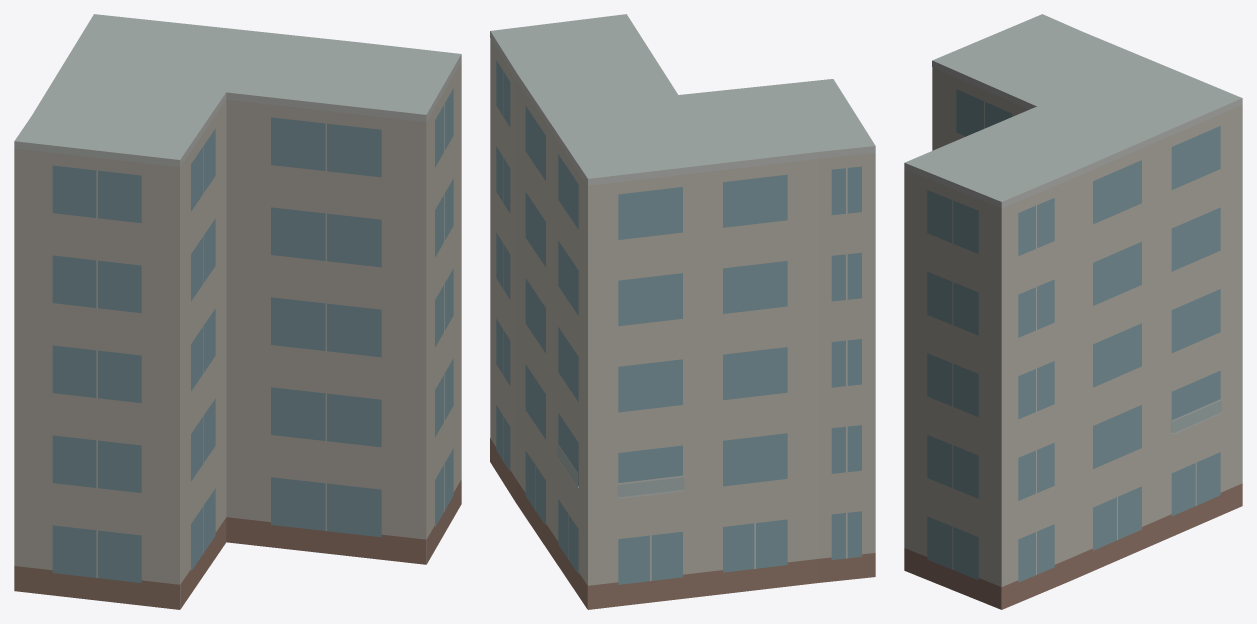
File: survey-upis-32784464.glb
3 renders of one model, left to right at view 1: azimuth 30°, elevation 25°; view 2: azimuth 150°, elevation 25°; view 3: azimuth 270°, elevation 25°, orthographic. The views are drawn at different scales.
Parts seen in each view (by area): view 1: survey-upis-32784464.tmp; view 2: survey-upis-32784464.tmp; view 3: survey-upis-32784464.tmp.
Part boxes in pixels (x1,y1,x2,y2): survey-upis-32784464.tmp: [14, 14, 461, 609]; survey-upis-32784464.tmp: [490, 14, 875, 609]; survey-upis-32784464.tmp: [904, 14, 1242, 609].
Size of the model in its own units: 15.08 by 15.25 by 11.46.
